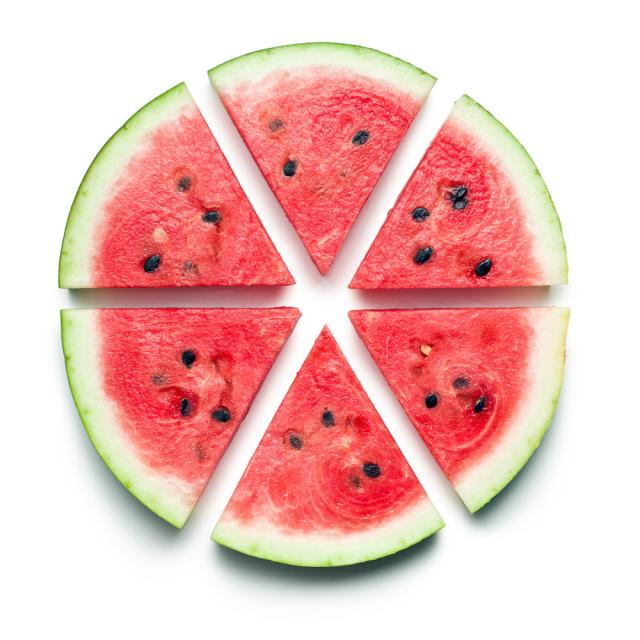watermelon: (211, 324, 446, 568), (208, 42, 439, 276), (61, 308, 303, 530), (60, 83, 295, 286), (349, 310, 568, 516), (349, 94, 569, 288)
